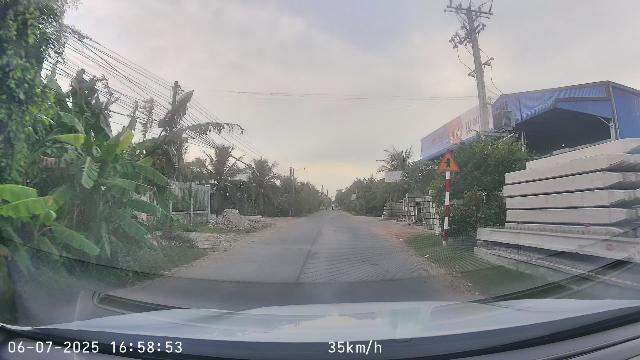207-giao-nhau-voi-duong-khong-uu-tien: (437, 149, 460, 172)
